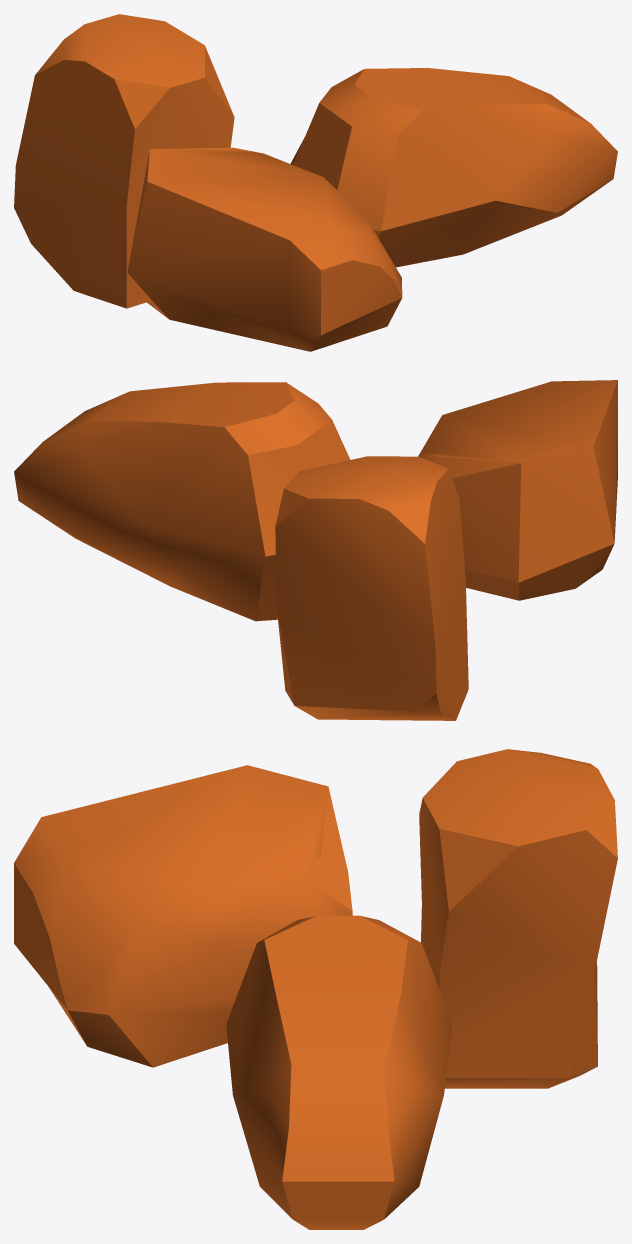
Rendered from OBJ_SmallRock_06.FBX.
The picture shows the model from 3 angles, top to bottom: view 1: azimuth 30°, elevation 25°; view 2: azimuth 150°, elevation 25°; view 3: azimuth 270°, elevation 25°; orthographic projection. The views are drawn at different scales.
Parts seen in each view (by area): view 1: OBJ_SmallRock_06; view 2: OBJ_SmallRock_06; view 3: OBJ_SmallRock_06.
Boxes of the visible parts, x1,y1,x2,y2 form: OBJ_SmallRock_06: [14, 14, 617, 351]; OBJ_SmallRock_06: [14, 380, 617, 720]; OBJ_SmallRock_06: [14, 749, 617, 1229].
Size of the model in its own units: 2.71 by 1.2 by 2.26.
